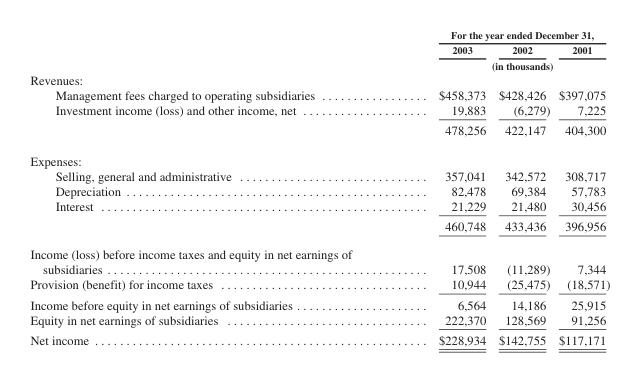table: (29, 28, 609, 346)
table column: (29, 28, 394, 346), (394, 28, 491, 346), (491, 28, 553, 346), (553, 28, 609, 346)
table column header: (29, 28, 609, 71)
table projected row header: (29, 145, 609, 167), (29, 71, 609, 87)
table row: (29, 239, 609, 276), (29, 119, 609, 145), (29, 215, 609, 239), (29, 145, 609, 167), (29, 276, 609, 294), (29, 311, 609, 329), (29, 102, 609, 119), (29, 198, 609, 215), (29, 294, 609, 311), (29, 329, 609, 346), (29, 71, 609, 87), (29, 167, 609, 183), (29, 42, 609, 57), (29, 87, 609, 102), (29, 183, 609, 198), (29, 28, 609, 42), (29, 57, 609, 71)
table spanning cell: (394, 28, 609, 42), (394, 57, 609, 71)
